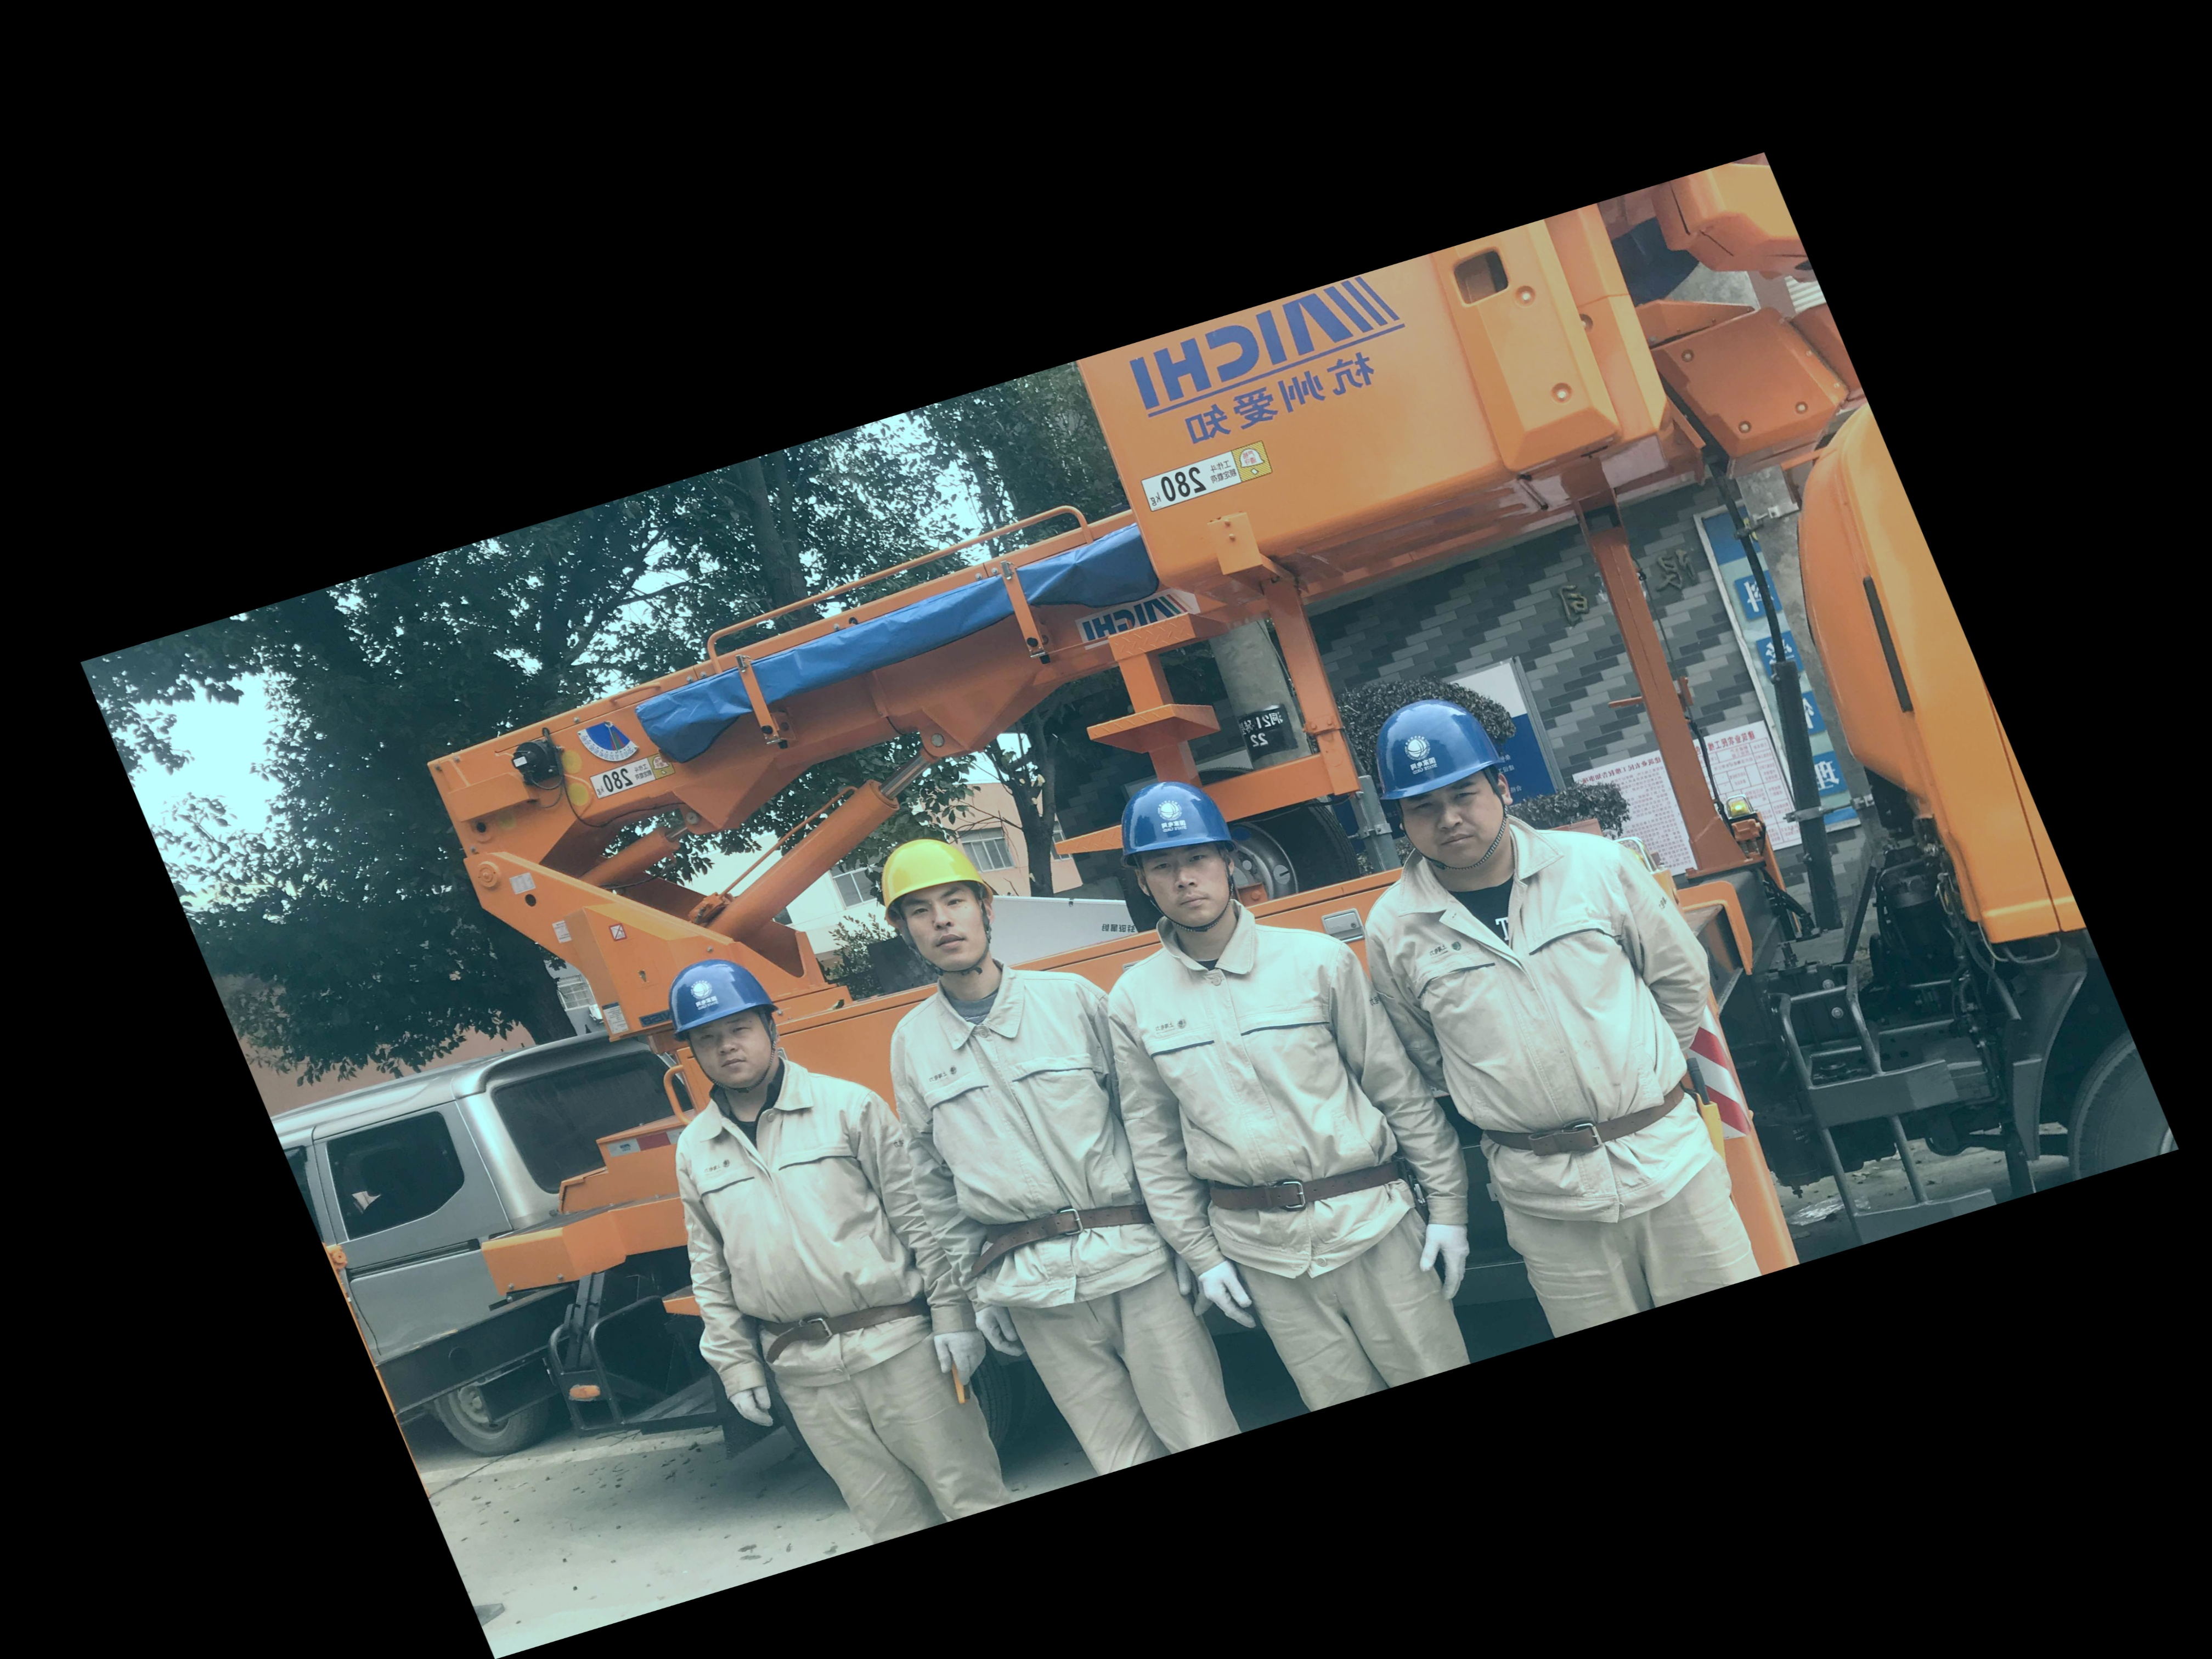helmet: (1346, 686, 1540, 884), (1094, 762, 1267, 943), (641, 942, 806, 1101), (860, 824, 1025, 983)
person: (1247, 656, 1833, 1355), (988, 742, 1531, 1432), (771, 796, 1289, 1496), (553, 925, 1060, 1570)
